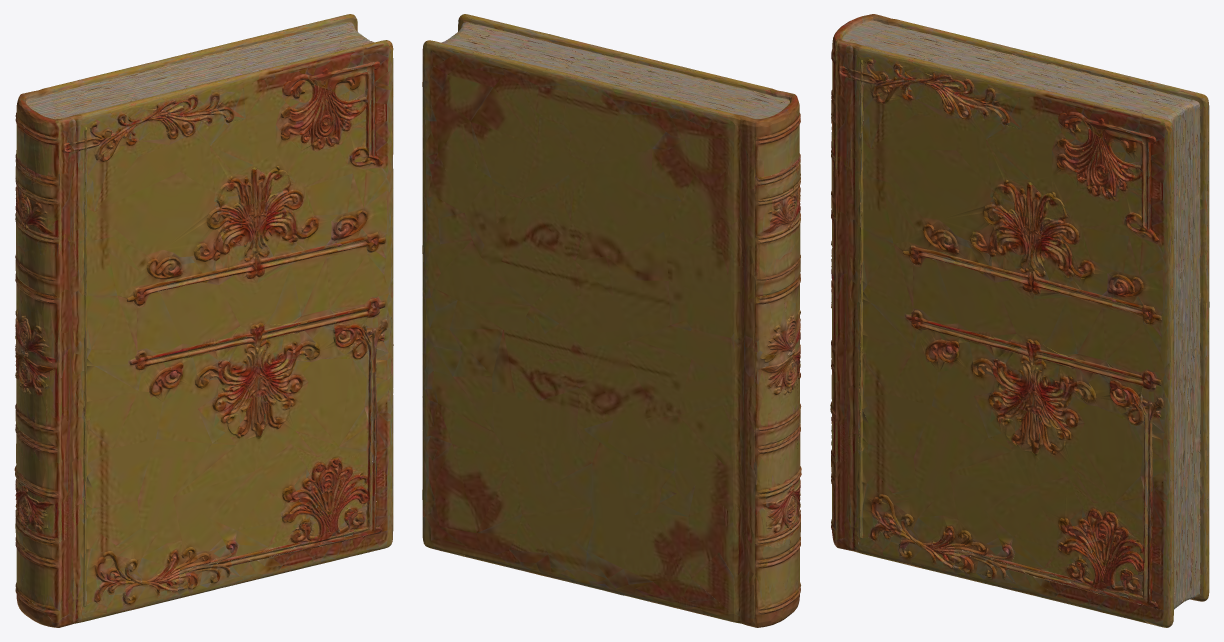
Rendered from mk_book.glb.
The picture shows the model from 3 angles, left to right: view 1: azimuth 30°, elevation 25°; view 2: azimuth 150°, elevation 25°; view 3: azimuth 330°, elevation 25°; orthographic projection.
Parts seen in each view (by area): view 1: Mesh_0; view 2: Mesh_0; view 3: Mesh_0.
Boxes of the visible parts, x1,y1,x2,y2 form: Mesh_0: (14, 14, 393, 627); Mesh_0: (422, 14, 801, 627); Mesh_0: (830, 14, 1209, 627).
Bounding box in the file's own units: 1.38 × 1.9 × 0.2831.
Materials: 1 (1 with a texture image).
